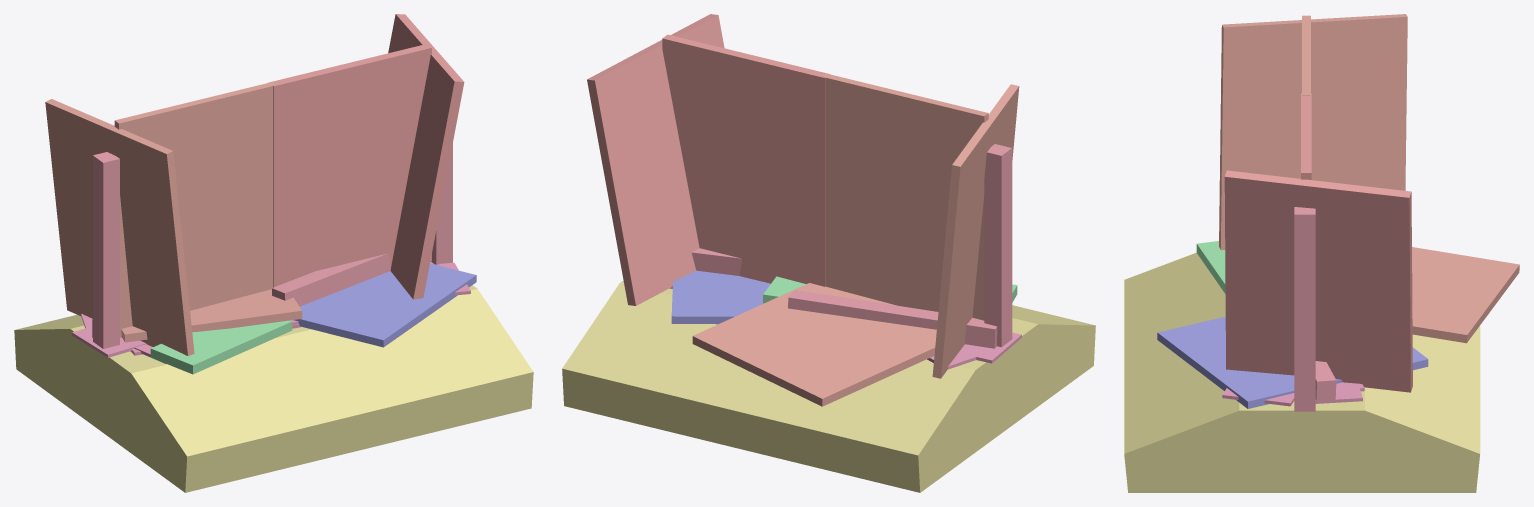
File: gate.glb
3 views of the same model, side by side, from view 1: azimuth 30°, elevation 25°; view 2: azimuth 150°, elevation 25°; view 3: azimuth 270°, elevation 25° (orthographic). The views are drawn at different scales.
Visible parts, largest first — view 1: S5|SM_Foundation_HescoGate#0, S5|SM_HescoGate_6x2_Gate_L#0, S5|SM_HescoGate_6x2_Gate_R#0, S4|SM_HescoGate_6x2_Gate_R#0, S4|SM_HescoGate_6x2_Gate_L#0, S3|SM_HescoGate_Stage_Door#0, S2|SM_HescoGate_Stage_Pillar#1, S3|SM_HescoGate_Stage_Small_Door#0, S3|SM_HescoGate_6x2_Gate_R#0, S1|SM_HescoGate_Stage_Pillar#0, S2|SM_HescoGate_Stage_Pillar#0, S1|SM_HescoGate_Stage_Sheet#0; view 2: S5|SM_Foundation_HescoGate#0, S5|SM_HescoGate_6x2_Gate_L#0, S5|SM_HescoGate_6x2_Gate_R#0, S4|SM_HescoGate_6x2_Gate_L#0, S3|SM_HescoGate_6x2_Gate_R#0, S4|SM_HescoGate_6x2_Gate_R#0, S2|SM_HescoGate_Stage_Pillar#1, S3|SM_HescoGate_Stage_Door#0, S1|SM_HescoGate_Stage_Pillar#1, S1|SM_HescoGate_Stage_Pillar#0, S2|SM_HescoGate_Stage_Sheet#0; view 3: S5|SM_Foundation_HescoGate#0, S4|SM_HescoGate_6x2_Gate_L#0, S4|SM_HescoGate_6x2_Gate_R#0, S3|SM_HescoGate_6x2_Gate_R#0, S3|SM_HescoGate_Stage_Door#0, S2|SM_HescoGate_Stage_Pillar#0, S5|SM_HescoGate_6x2_Gate_L#0, S3|SM_HescoGate_Stage_Small_Door#0, S1|SM_HescoGate_Stage_Pillar#0, S5|SM_HescoGate_6x2_Gate_R#0.
Boxes of the visible parts, x1,y1,x2,y2 form: S5|SM_Foundation_HescoGate#0: (14,285,533,492); S5|SM_HescoGate_6x2_Gate_L#0: (268,44,431,287); S5|SM_HescoGate_6x2_Gate_R#0: (114,82,276,336); S4|SM_HescoGate_6x2_Gate_R#0: (45,99,194,355); S4|SM_HescoGate_6x2_Gate_L#0: (388,14,464,299); S3|SM_HescoGate_Stage_Door#0: (293,263,476,347); S2|SM_HescoGate_Stage_Pillar#1: (93,152,119,348); S3|SM_HescoGate_Stage_Small_Door#0: (150,320,292,374); S3|SM_HescoGate_6x2_Gate_R#0: (121,289,302,342); S1|SM_HescoGate_Stage_Pillar#0: (272,253,390,306); S2|SM_HescoGate_Stage_Pillar#0: (431,143,452,264); S1|SM_HescoGate_Stage_Sheet#0: (72,326,146,357); S5|SM_Foundation_HescoGate#0: (562,280,1095,492); S5|SM_HescoGate_6x2_Gate_L#0: (662,34,829,286); S5|SM_HescoGate_6x2_Gate_R#0: (822,73,988,320); S4|SM_HescoGate_6x2_Gate_L#0: (587,14,724,305); S3|SM_HescoGate_6x2_Gate_R#0: (692,283,936,406); S4|SM_HescoGate_6x2_Gate_R#0: (932,84,1019,378); S2|SM_HescoGate_Stage_Pillar#1: (984,144,1012,347); S3|SM_HescoGate_Stage_Door#0: (671,270,770,324); S1|SM_HescoGate_Stage_Pillar#1: (788,290,997,348); S1|SM_HescoGate_Stage_Pillar#0: (691,248,741,275); S2|SM_HescoGate_Stage_Sheet#0: (927,344,998,369); S5|SM_Foundation_HescoGate#0: (1124,252,1480,492); S4|SM_HescoGate_6x2_Gate_L#0: (1224,170,1412,392); S4|SM_HescoGate_6x2_Gate_R#0: (1219,14,1407,250); S3|SM_HescoGate_6x2_Gate_R#0: (1412,247,1519,343); S3|SM_HescoGate_Stage_Door#0: (1157,316,1428,408); S2|SM_HescoGate_Stage_Pillar#0: (1294,207,1315,411); S5|SM_HescoGate_6x2_Gate_L#0: (1301,93,1311,179); S3|SM_HescoGate_Stage_Small_Door#0: (1196,241,1225,293); S1|SM_HescoGate_Stage_Pillar#0: (1315,361,1336,400); S5|SM_HescoGate_6x2_Gate_R#0: (1302,15,1310,95).
Bounding box in the file's own units: 6.25 × 4.98 × 5.72.
